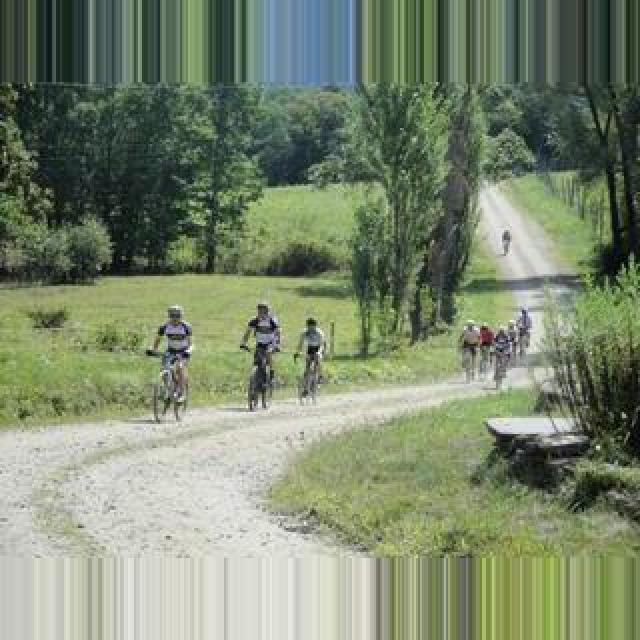MC-Bike: (146, 306, 192, 398), (238, 302, 282, 396), (296, 316, 326, 394), (460, 322, 480, 376), (478, 322, 494, 370)
Person: (152, 348, 190, 424), (246, 346, 278, 412), (298, 354, 324, 406)
